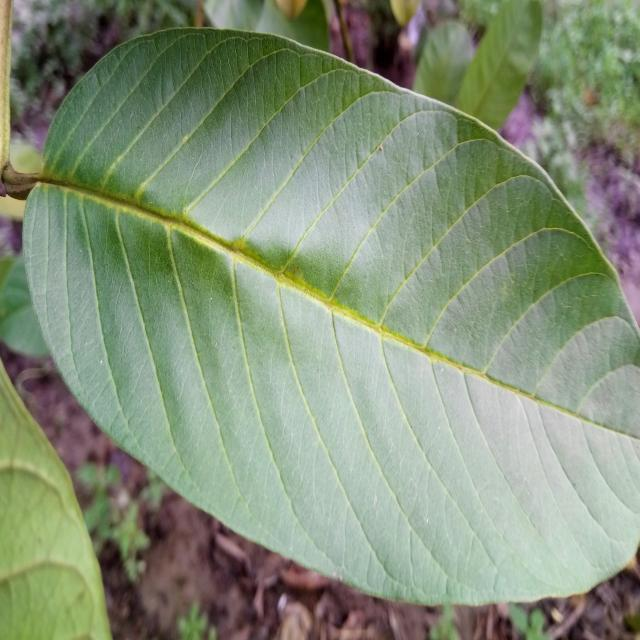Disease Free: (24, 31, 640, 603), (0, 360, 111, 638)
